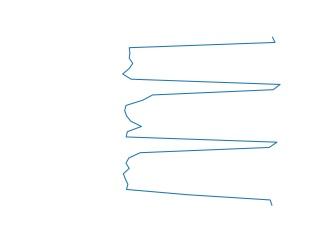majorRiverChannelBar: (118, 35, 282, 207)
